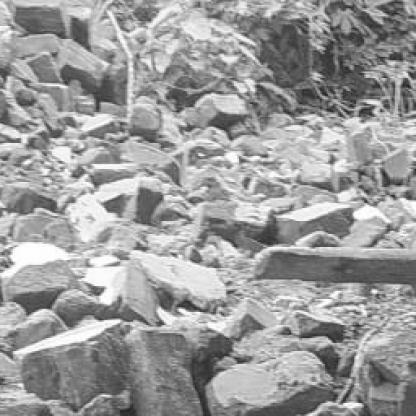cementitious_debris: (2, 1, 414, 413)
